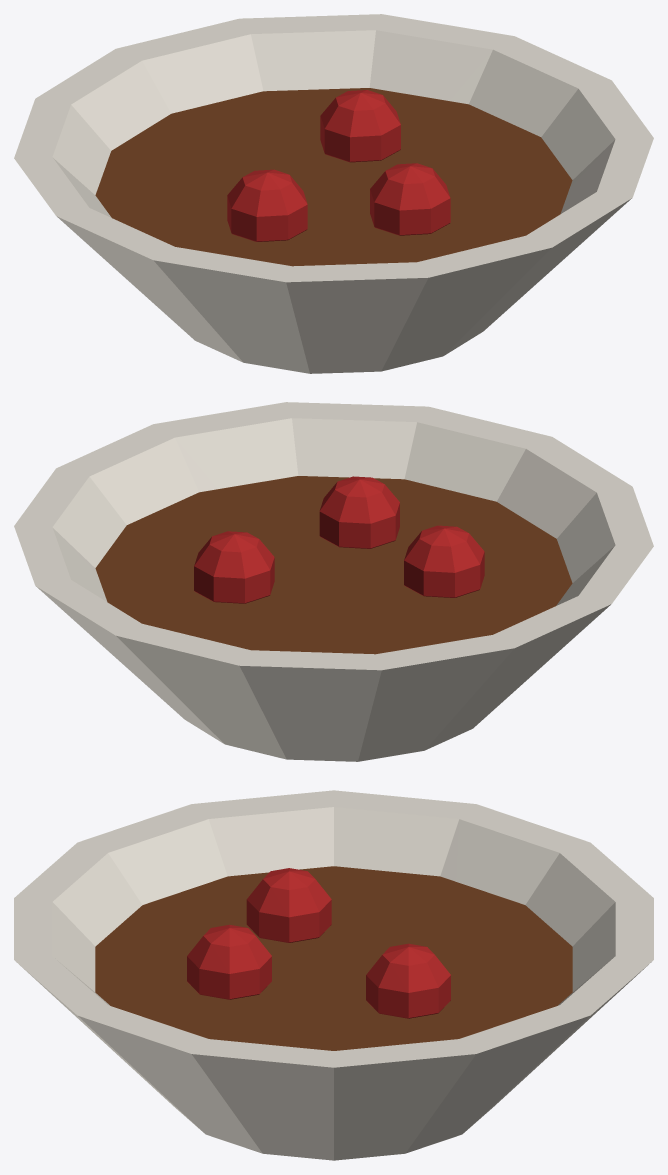
The model's file is stew_bowl.obj.
3 views of the same model, one above another, from view 1: azimuth 30°, elevation 25°; view 2: azimuth 150°, elevation 25°; view 3: azimuth 270°, elevation 25° (orthographic). The views are drawn at different scales.
Parts seen in each view (by area): view 1: stew_bowl; view 2: stew_bowl; view 3: stew_bowl.
Part boxes in pixels (box(x1,y1,x2,y2)): stew_bowl: box(14, 14, 653, 373); stew_bowl: box(14, 402, 653, 761); stew_bowl: box(14, 790, 653, 1160).
Size of the model in its own units: 0.44 by 0.13 by 0.429.
